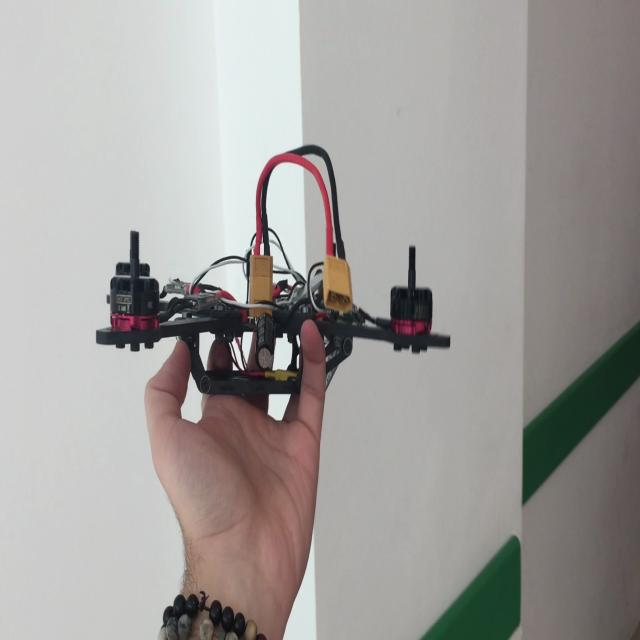drone: (76, 212, 457, 413)
